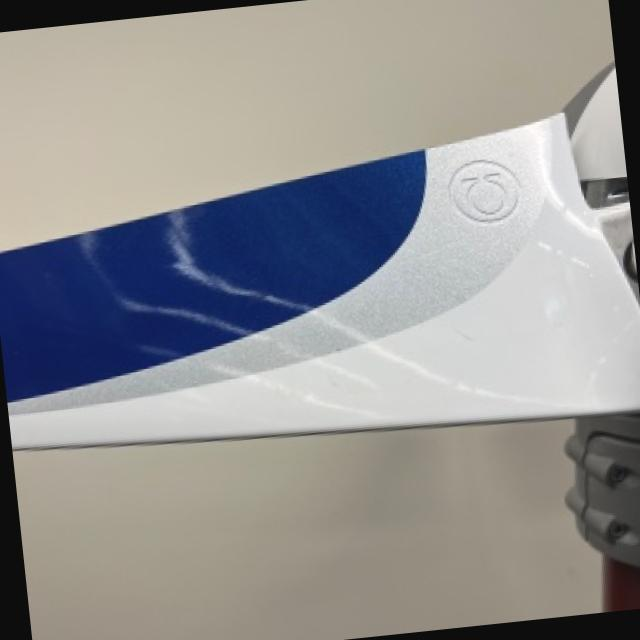healthy: (0, 64, 640, 447), (14, 420, 602, 640)
